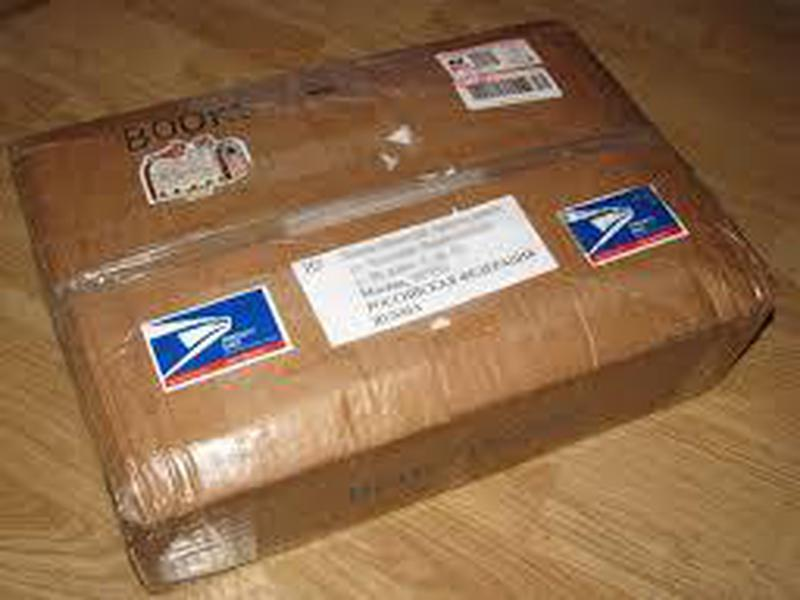package: (12, 16, 780, 572)
